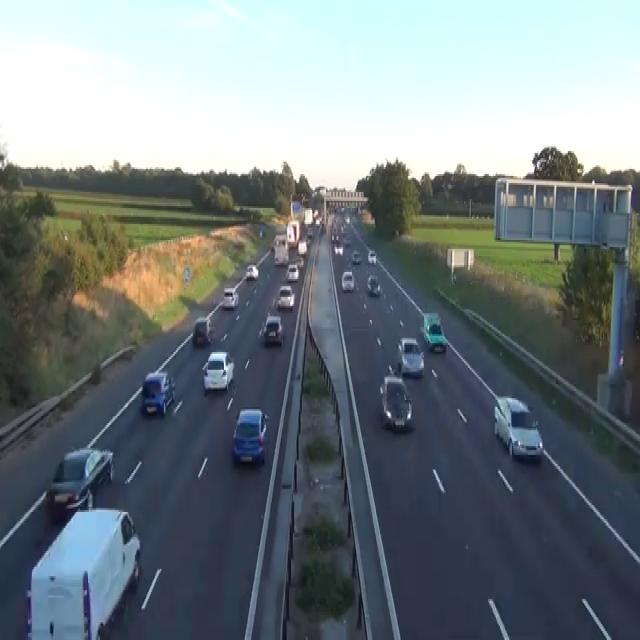Car: (45, 446, 114, 519), (493, 394, 543, 458), (232, 407, 269, 464), (379, 374, 412, 431), (141, 370, 175, 418), (202, 350, 234, 393), (397, 336, 424, 377), (421, 311, 447, 352), (262, 314, 283, 346), (192, 316, 211, 345), (277, 284, 295, 310), (222, 286, 239, 310), (366, 274, 380, 295), (341, 270, 354, 292), (285, 263, 299, 281), (274, 249, 288, 267), (245, 263, 258, 279), (273, 233, 286, 247), (633, 311, 639, 341), (297, 238, 307, 254), (57, 229, 68, 242), (367, 249, 376, 263), (352, 249, 361, 263), (618, 348, 624, 366), (296, 256, 304, 268), (334, 244, 343, 254), (331, 231, 339, 242), (340, 222, 347, 233), (306, 228, 313, 238), (343, 235, 350, 245), (344, 215, 350, 224), (315, 217, 320, 226), (259, 230, 263, 237)
Truck: (25, 507, 140, 638), (273, 233, 289, 265), (286, 221, 299, 247)
